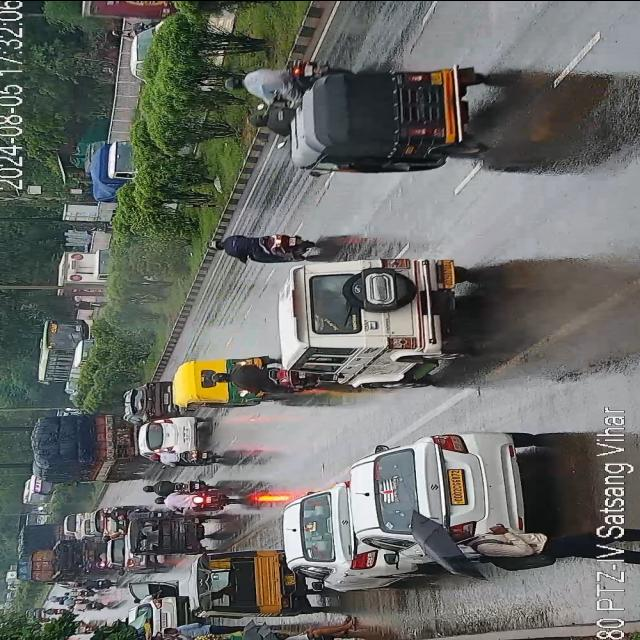2-wheelers: (223, 61, 343, 98), (210, 232, 318, 260), (207, 366, 313, 390), (159, 488, 227, 512), (245, 108, 292, 134), (144, 475, 207, 492), (150, 447, 214, 462)
auto: (302, 65, 488, 169), (194, 550, 294, 616), (174, 352, 264, 406), (134, 508, 208, 554)
bus: (36, 313, 106, 386)
car: (286, 263, 462, 387), (359, 432, 535, 552), (274, 478, 428, 590), (140, 412, 198, 460), (132, 22, 172, 82), (120, 377, 172, 421), (134, 594, 177, 639), (105, 536, 159, 566), (66, 506, 100, 534)
pedestrian: (438, 526, 588, 564), (277, 617, 363, 640), (163, 618, 249, 638)
truck: (17, 538, 97, 586), (74, 0, 188, 18)
